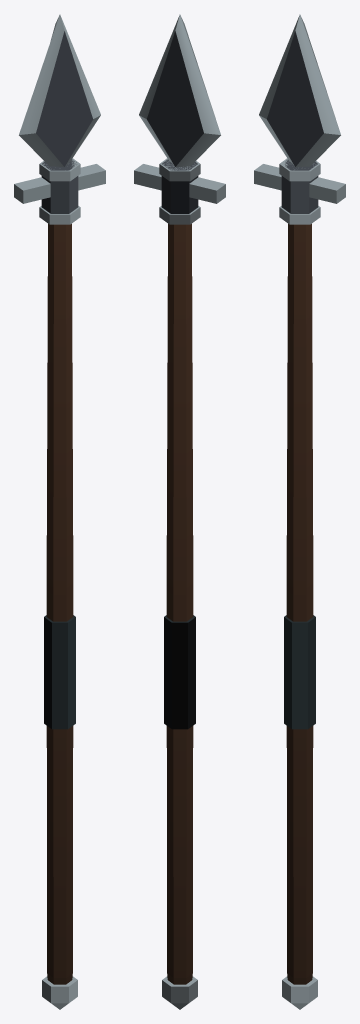
File: knight_spear_1.gltf
The picture shows the model from 3 angles, left to right: view 1: azimuth 30°, elevation 25°; view 2: azimuth 150°, elevation 25°; view 3: azimuth 330°, elevation 25°; orthographic projection.
Parts seen in each view (by area): view 1: knight_spear_1; view 2: knight_spear_1; view 3: knight_spear_1.
Part boxes in pixels (x1,y1,x2,y2): knight_spear_1: (14, 14, 105, 1009); knight_spear_1: (134, 14, 225, 1009); knight_spear_1: (254, 14, 345, 1009).
Size of the model in its own units: 0.26 by 2.99 by 0.112.
1 material, 1 textured.
